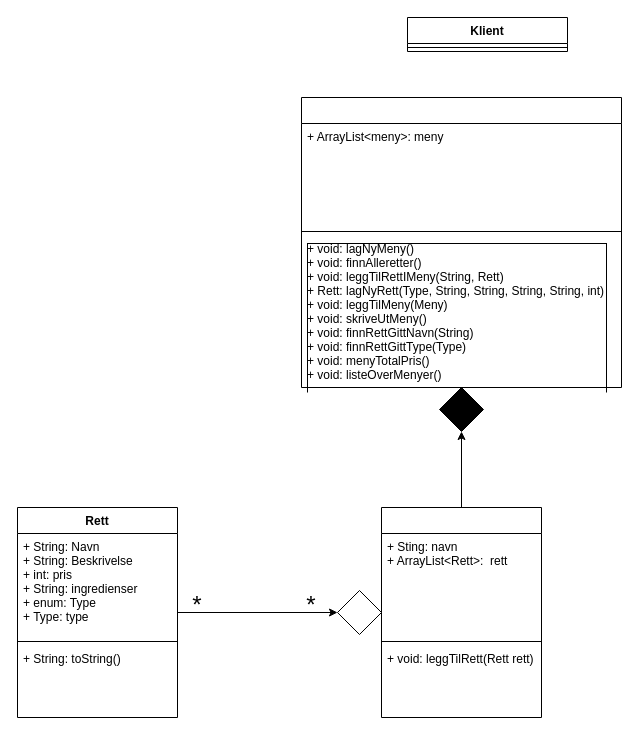
Image size: 639x738. Some labels were removed from this diagram. Here are the shapes that lost their labels. From the top down, the box of each, then its label:
(300, 96, 622, 388): menyRegistrer
(380, 506, 542, 718): Meny
